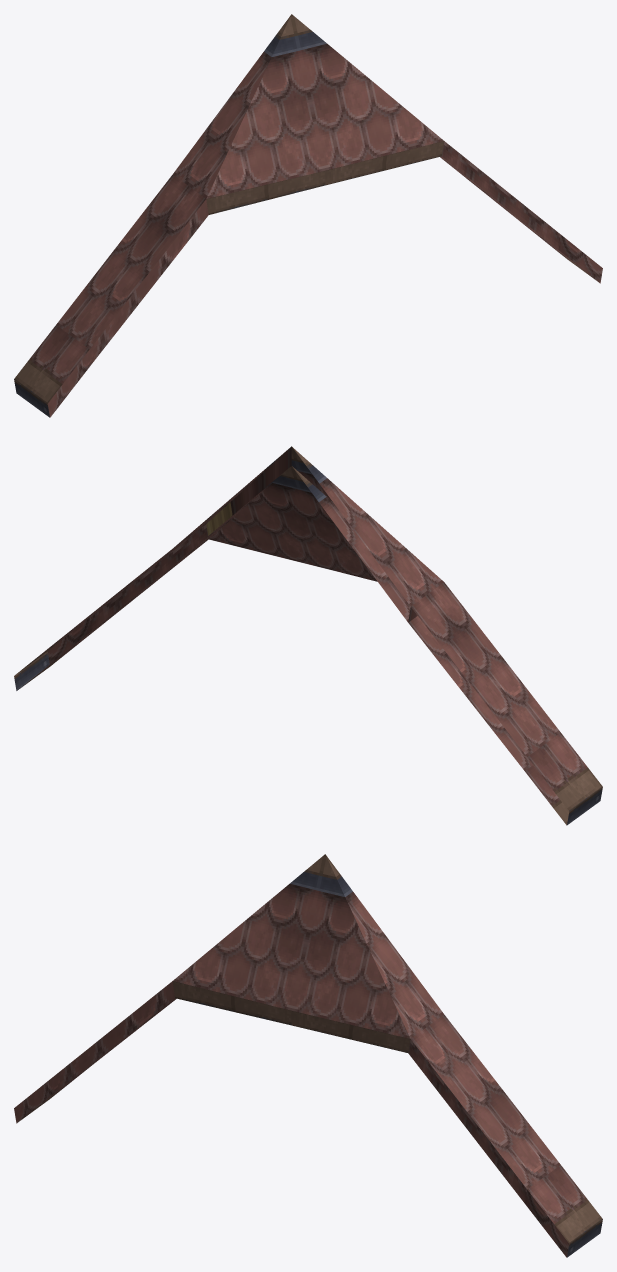
Rendered from roof_red_end.glb.
3 renders of one model, top to bottom at view 1: azimuth 30°, elevation 25°; view 2: azimuth 150°, elevation 25°; view 3: azimuth 330°, elevation 25°, orthographic.
Parts seen in each view (by area): view 1: roof_red_end; view 2: roof_red_end; view 3: roof_red_end.
Boxes of the visible parts, x1,y1,x2,y2 form: roof_red_end: (14, 14, 602, 417); roof_red_end: (14, 446, 602, 825); roof_red_end: (14, 854, 602, 1257).
Bounding box in the file's own units: 4.76 × 2.56 × 0.5.
Materials: 1 (1 with a texture image).
